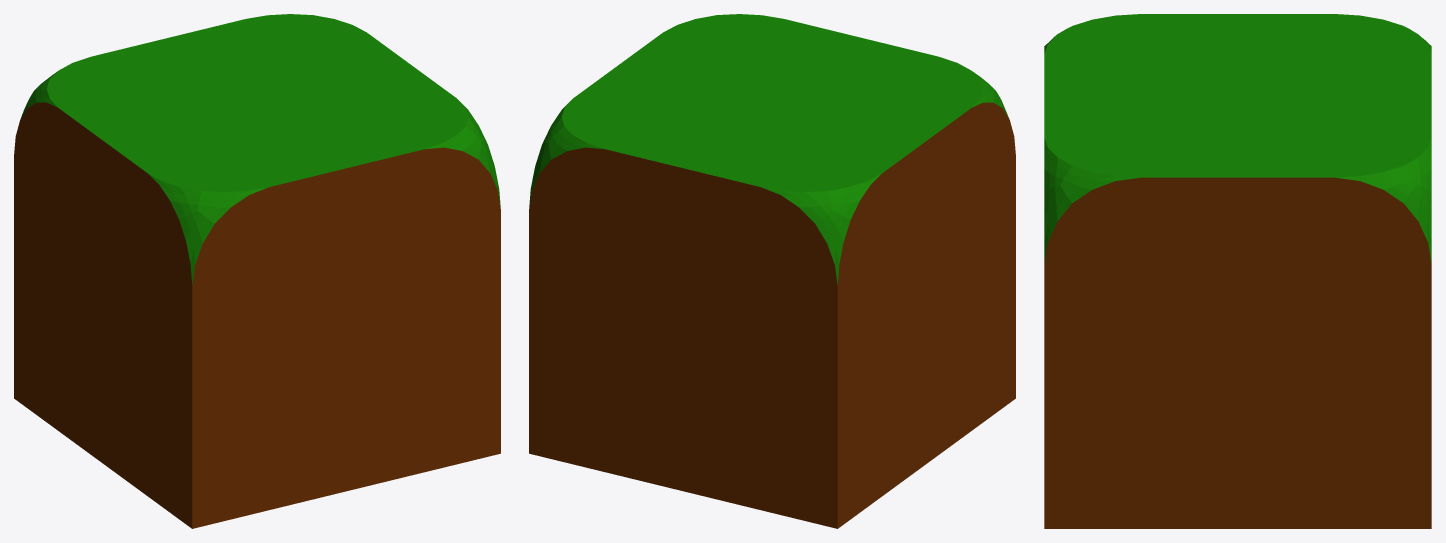
The model's file is block_to_slystroyer.glb.
The picture shows the model from 3 angles, left to right: view 1: azimuth 30°, elevation 25°; view 2: azimuth 150°, elevation 25°; view 3: azimuth 270°, elevation 25°; orthographic projection. The views are drawn at different scales.
Visible parts, largest first — view 1: Cube; view 2: Cube; view 3: Cube.
Part boxes in pixels (x1=…): Cube: x1=14, y1=14, x2=500, y2=528; Cube: x1=529, y1=14, x2=1015, y2=528; Cube: x1=1044, y1=14, x2=1431, y2=528.
Bounding box in the file's own units: 2 × 2 × 2.
